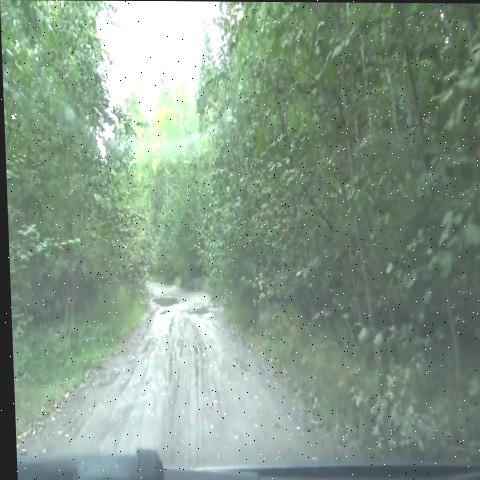pothole: (148, 287, 182, 313), (181, 302, 216, 327), (150, 305, 174, 320)
